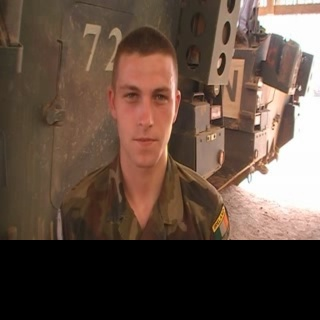without_mask: (113, 52, 177, 168)
